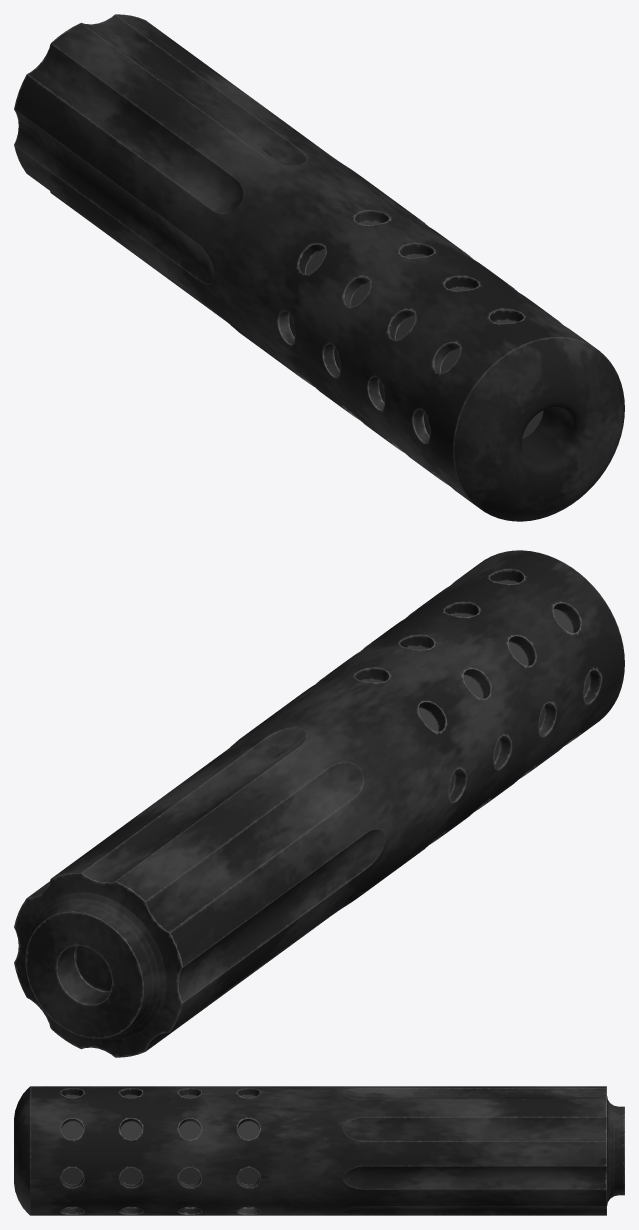
The model's file is Suppressor.FBX.
The picture shows the model from 3 angles, top to bottom: view 1: azimuth 30°, elevation 25°; view 2: azimuth 150°, elevation 25°; view 3: azimuth 270°, elevation 25°; orthographic projection. The views are drawn at different scales.
Visible parts, largest first — view 1: SUPRESSOR_Cylinder; view 2: SUPRESSOR_Cylinder; view 3: SUPRESSOR_Cylinder.
Boxes of the visible parts, <box> form: SUPRESSOR_Cylinder: <box>14,14,624,521</box>; SUPRESSOR_Cylinder: <box>14,550,624,1057</box>; SUPRESSOR_Cylinder: <box>14,1086,624,1215</box>.
Size of what is drawn, in the model's own units: 80 by 377 by 80.
Materials: 2 (1 with a texture image).
